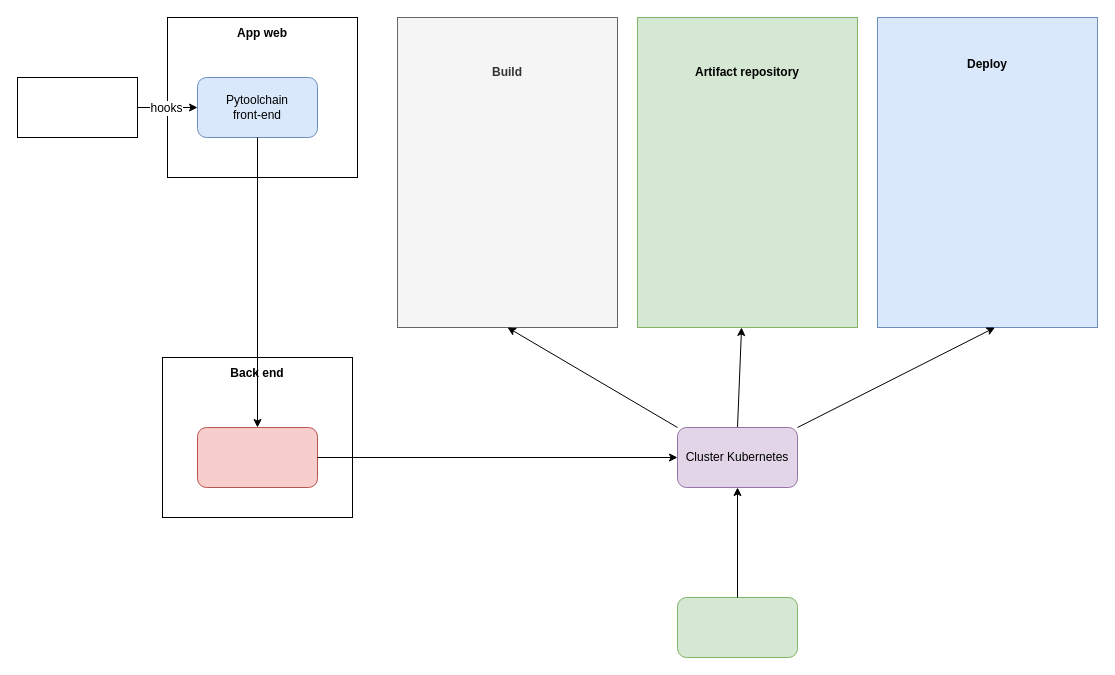
This 1115x675 diagram has some shape labels left out. Each missing label, with the centre of its shape:
"Github" goes at (77,107).
"Kubernetes Controller" goes at (257,457).
"Terraform" goes at (737,627).
